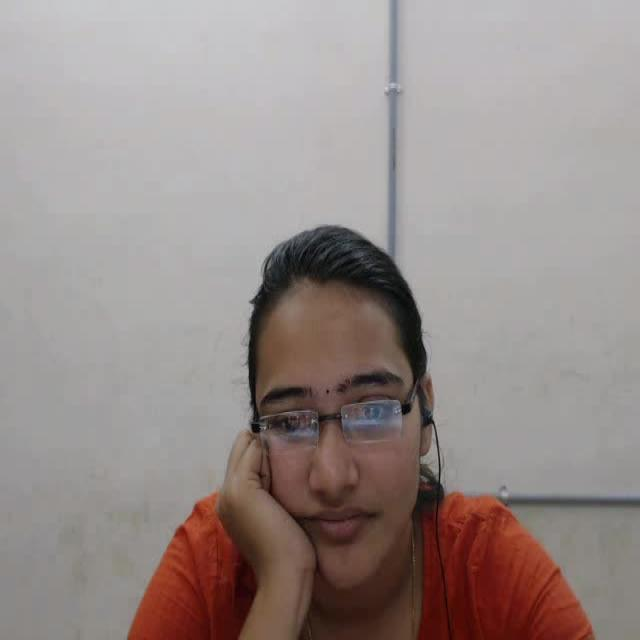Bored: (141, 205, 571, 627)
